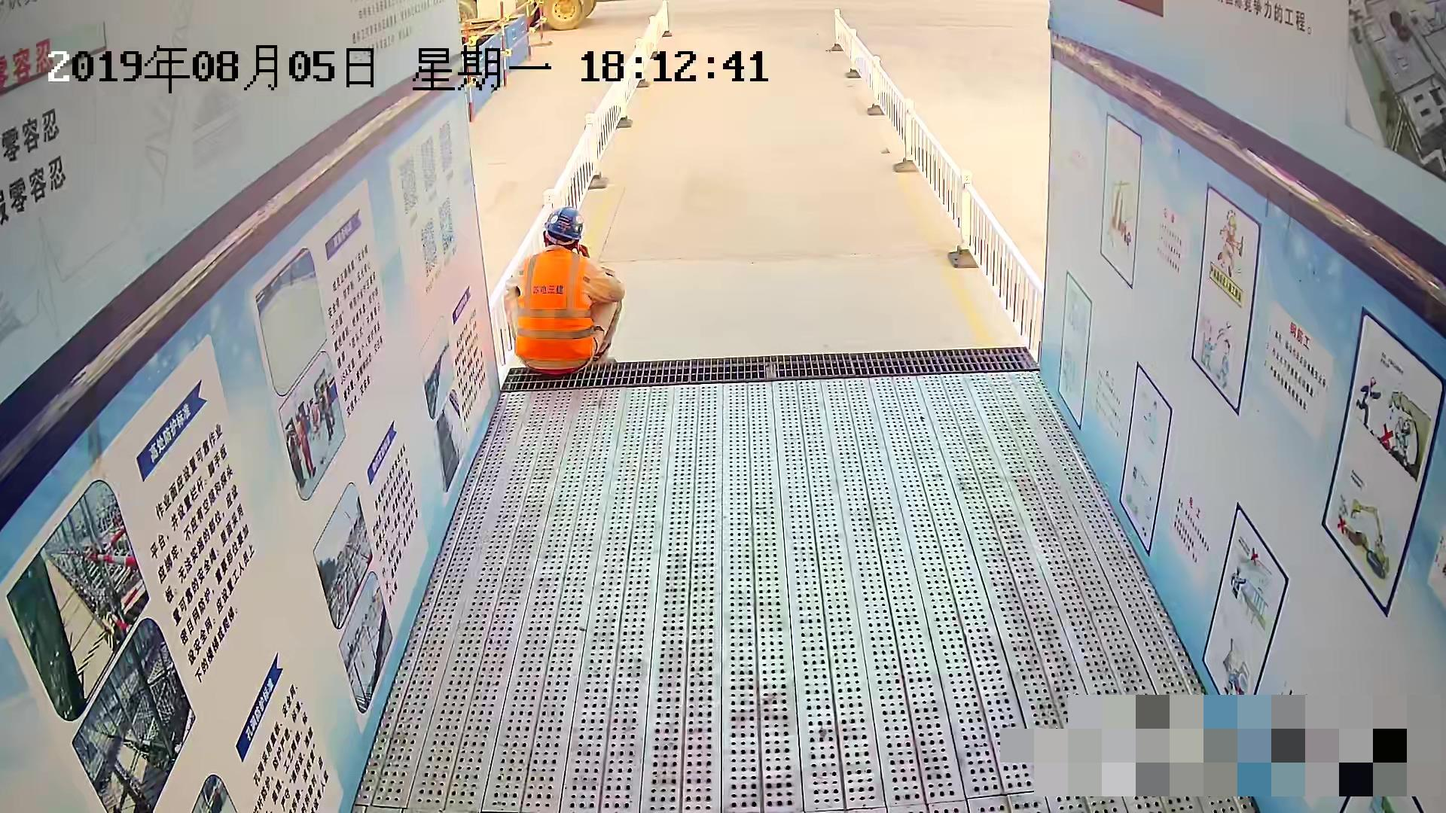hat: (541, 202, 586, 254)
person: (499, 202, 625, 379)
